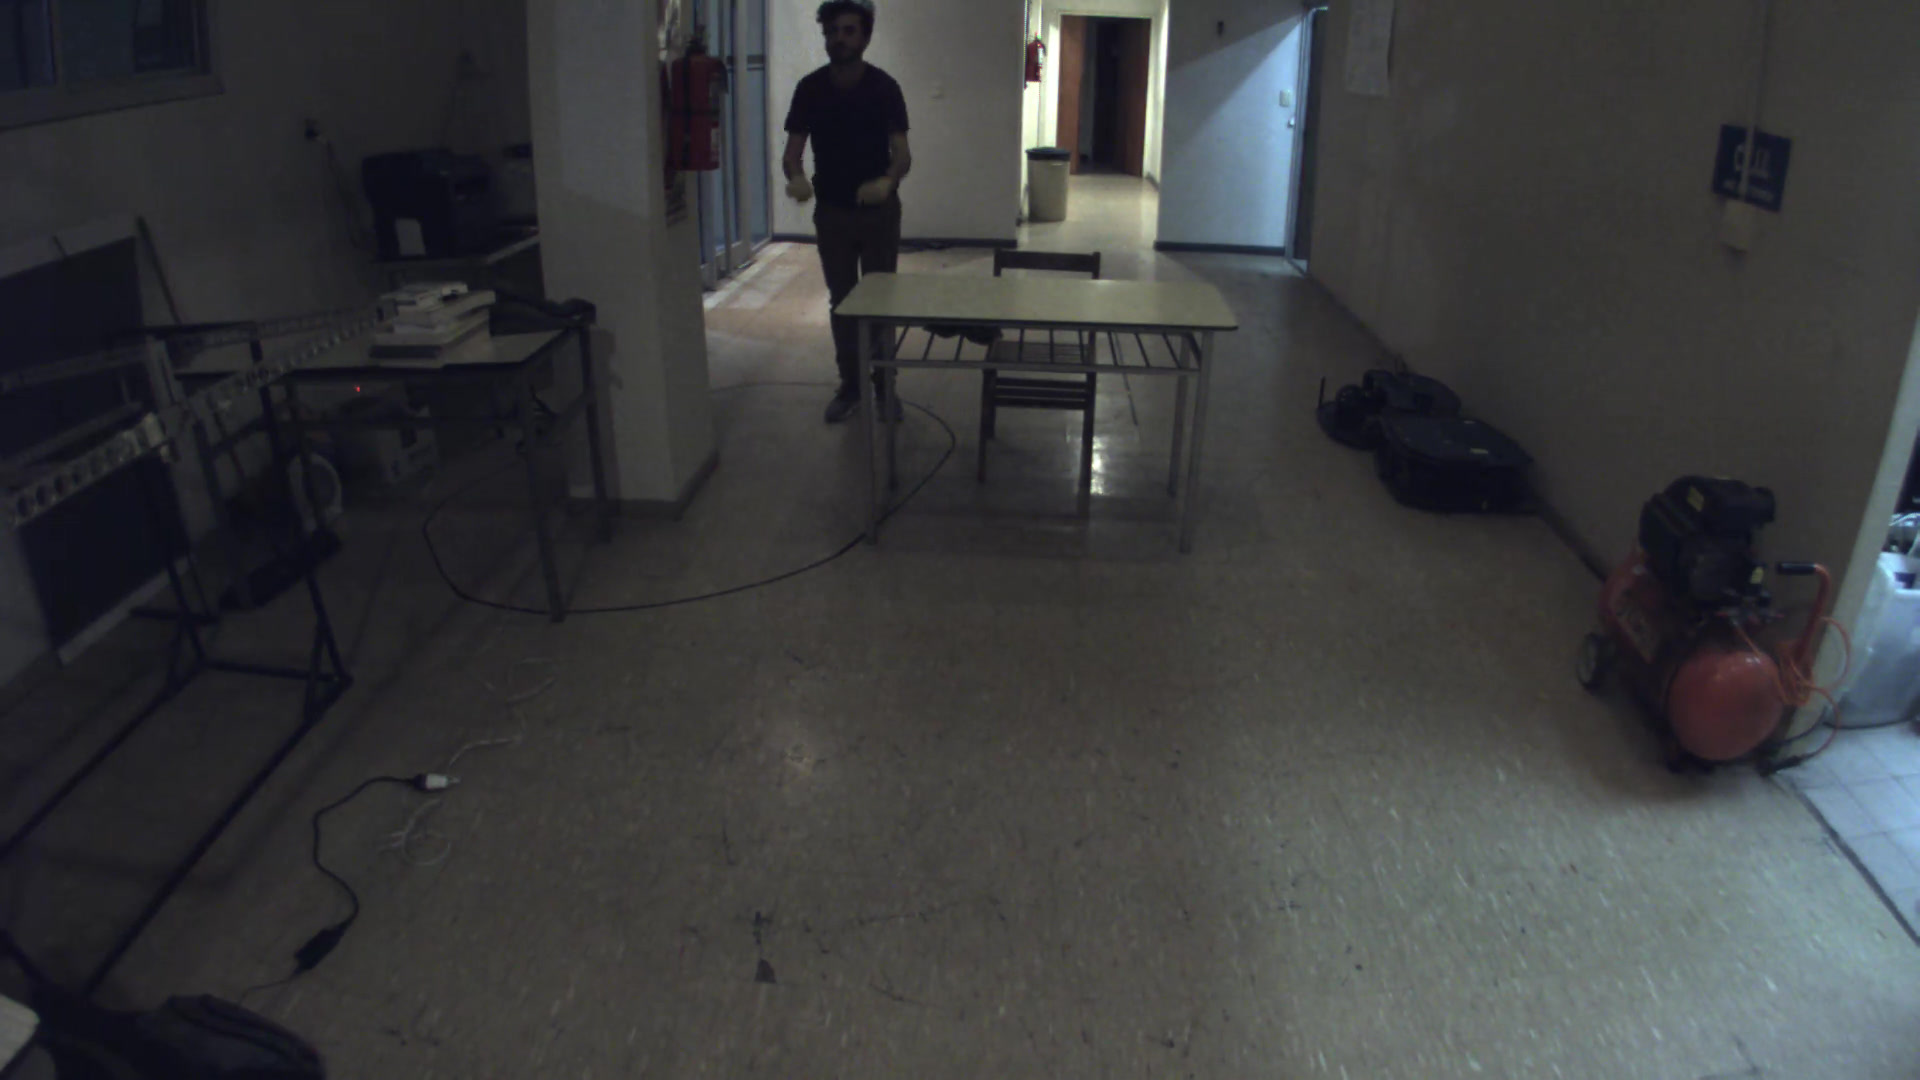hand: (775, 170, 825, 218), (848, 169, 890, 214)
